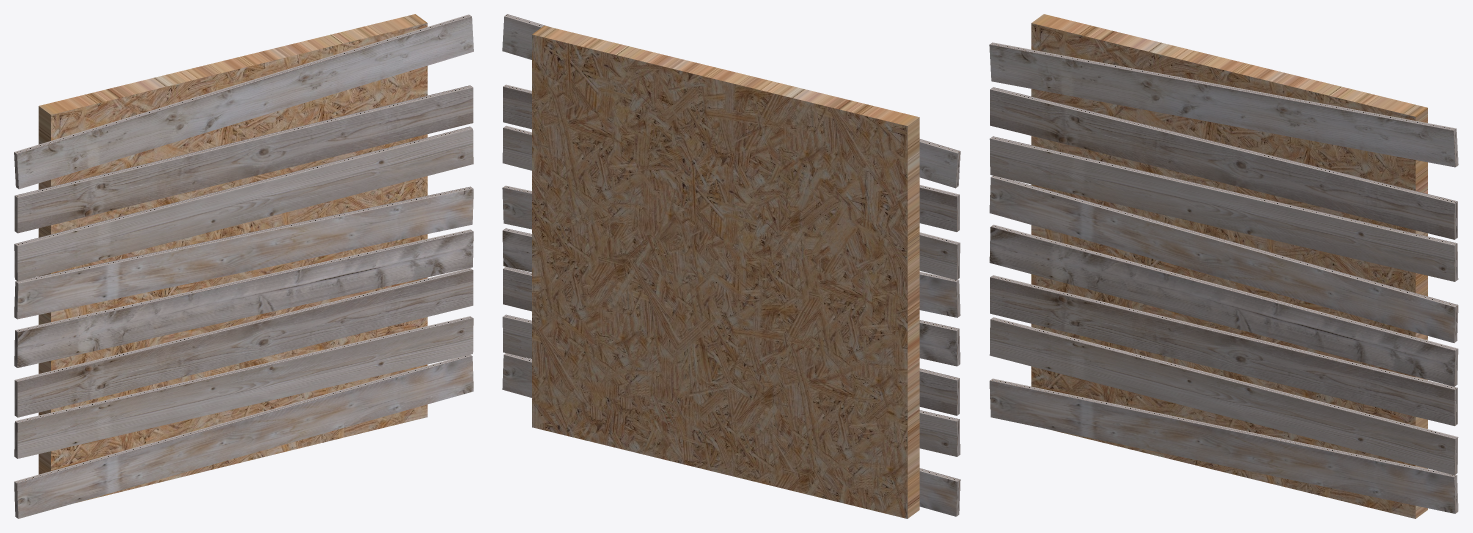
Rendered from baricadaWood.glb.
The picture shows the model from 3 angles, left to right: view 1: azimuth 30°, elevation 25°; view 2: azimuth 150°, elevation 25°; view 3: azimuth 330°, elevation 25°; orthographic projection. The views are drawn at different scales.
Visible parts, largest first — view 1: baricadaWood; view 2: baricadaWood; view 3: baricadaWood.
Part boxes in pixels (x1,y1,x2,y2): baricadaWood: (14,14,473,518); baricadaWood: (502,14,960,518); baricadaWood: (989,14,1458,518).
Size of what is drawn, in the model's own units: 4.85 by 4 by 0.2924.
Materials: 2 (2 with a texture image).
